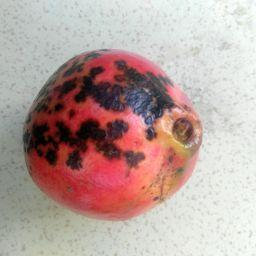pomegranate: (23, 47, 204, 223)
